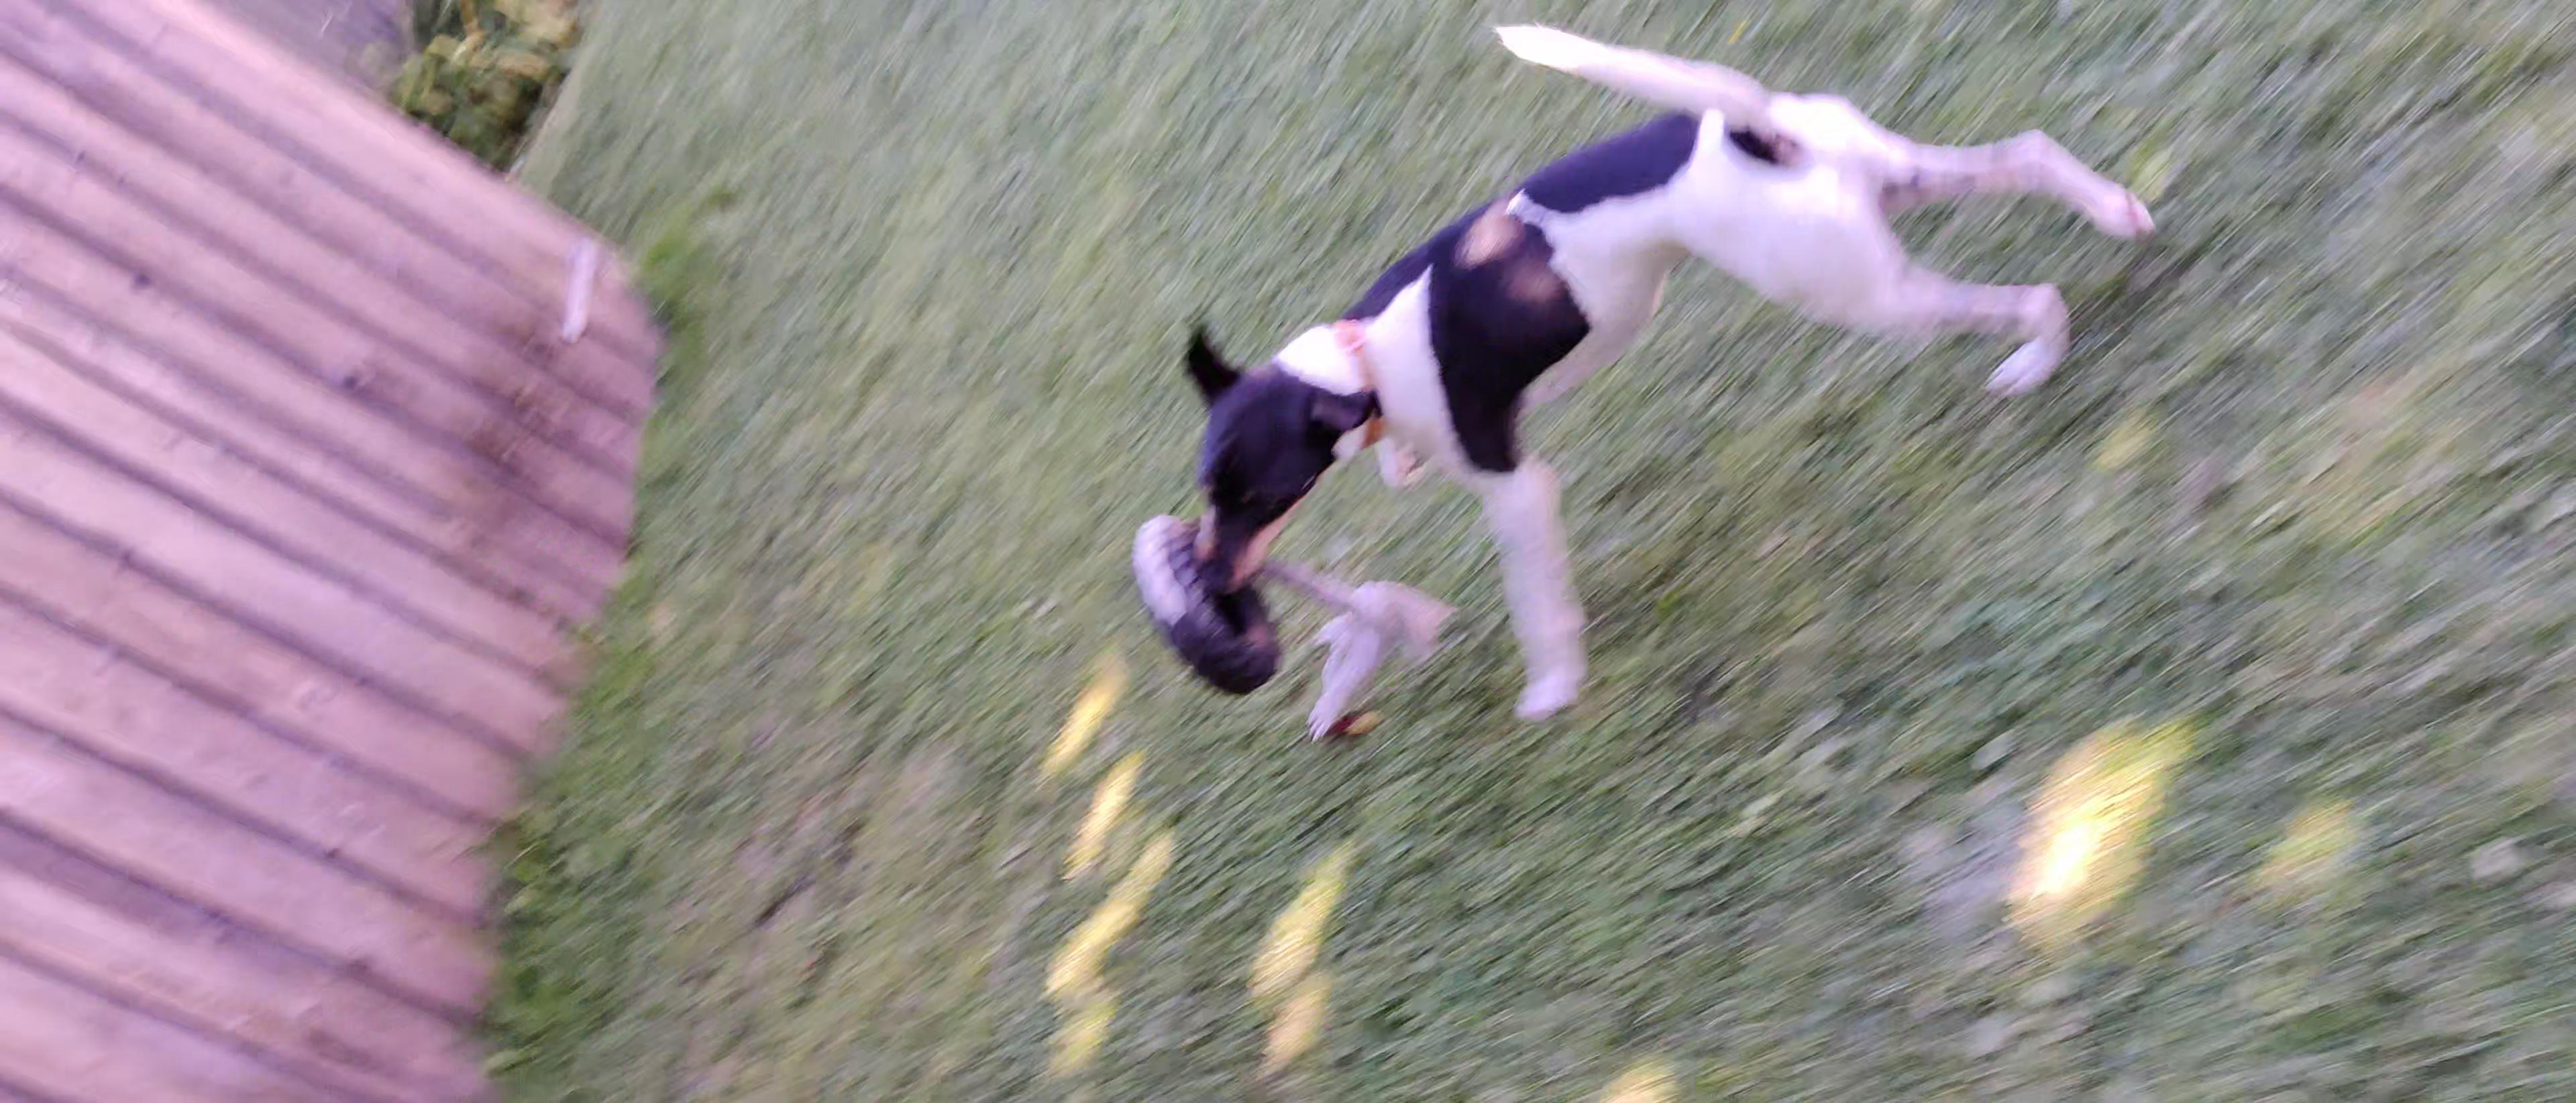Dog: (1178, 16, 2154, 731)
